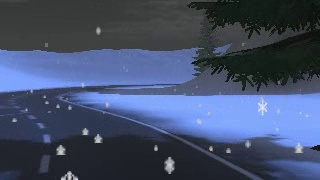Lane: (1, 87, 260, 179)
